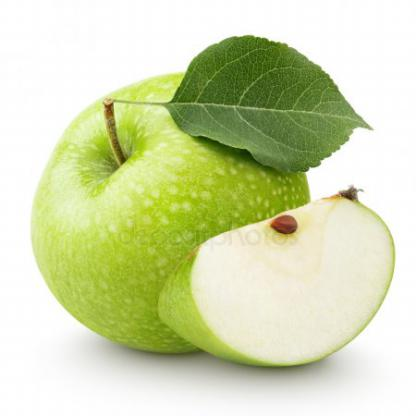apple leaf: (154, 37, 385, 177)
